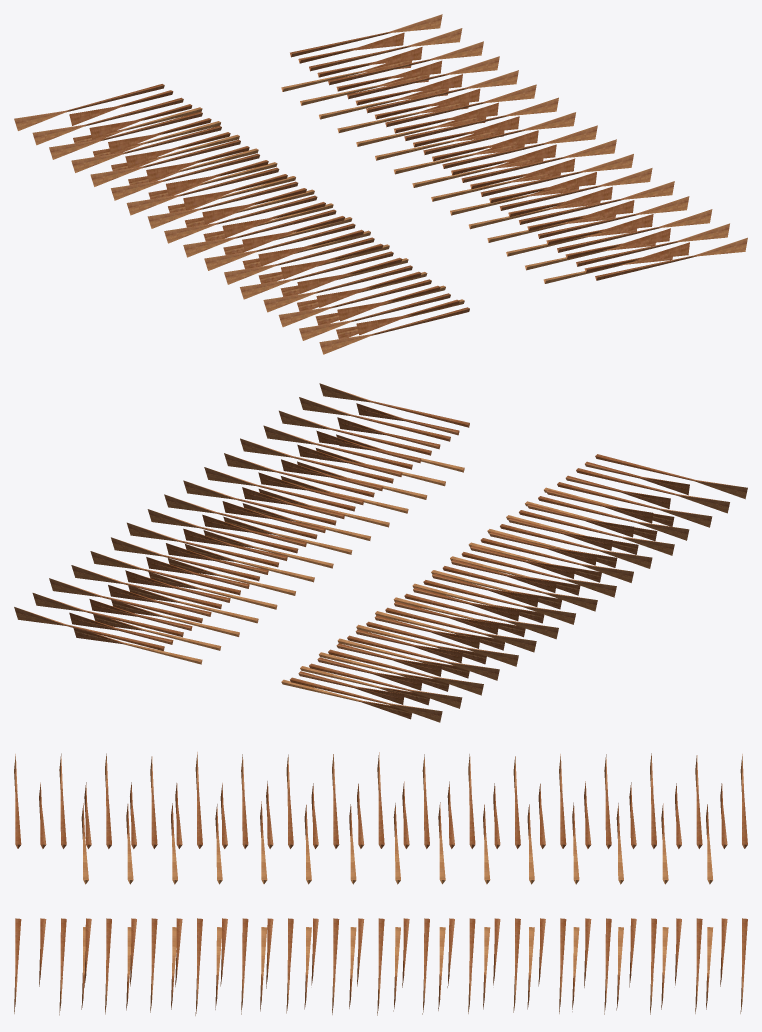
The model's file is pers_tri_oars.dae.
The picture shows the model from 3 angles, top to bottom: view 1: azimuth 30°, elevation 25°; view 2: azimuth 150°, elevation 25°; view 3: azimuth 270°, elevation 25°; orthographic projection. The views are drawn at different scales.
Visible parts, largest first — view 1: Oars_007; view 2: Oars_007; view 3: Oars_007.
Boxes of the visible parts, left/top/right/bottom form: Oars_007: left=14, top=14, right=747, bottom=354; Oars_007: left=14, top=383, right=747, bottom=722; Oars_007: left=14, top=752, right=747, bottom=1015.
Bounding box in the file's own units: 21.65 × 26.59 × 1.47.
